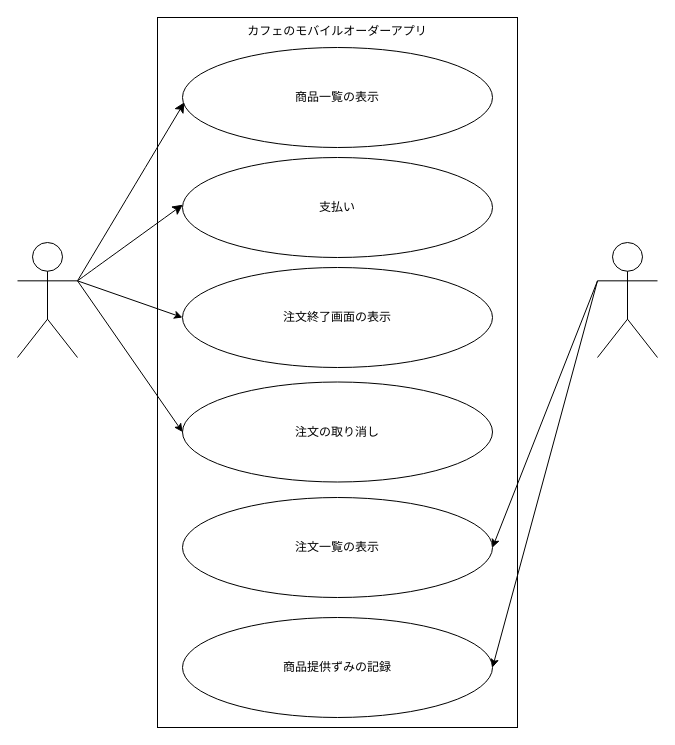
Some shapes in this 675 by 745 pixel diagram are drawn without their labels. Here are the shapes that lost their labels. From the top down, the centre of each, then its label:
point 47,300: お客様
point 627,300: 定員
